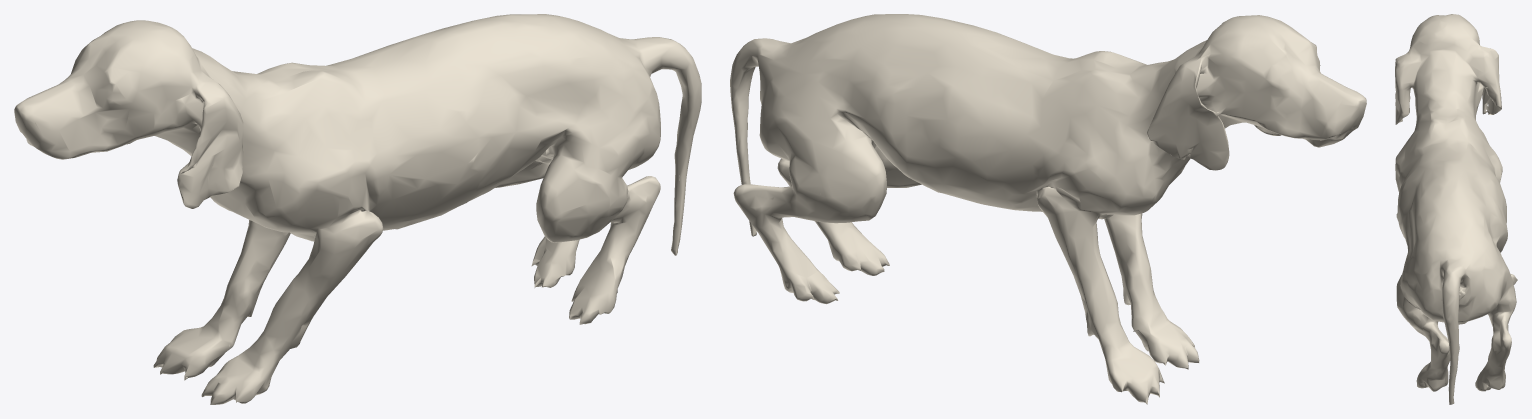
Rendered from canine-visible-ajou-quick-bbcf8dd18470.glb.
3 renders of one model, left to right at view 1: azimuth 30°, elevation 25°; view 2: azimuth 150°, elevation 25°; view 3: azimuth 270°, elevation 25°, orthographic. The views are drawn at different scales.
Visible parts, largest first — view 1: skin; view 2: skin; view 3: skin.
Part boxes in pixels (x1=…): skin: x1=14, y1=14, x2=701, y2=404; skin: x1=730, y1=14, x2=1366, y2=404; skin: x1=1395, y1=14, x2=1517, y2=404.
Size of the model in its own units: 2 by 1.1 by 0.504.
